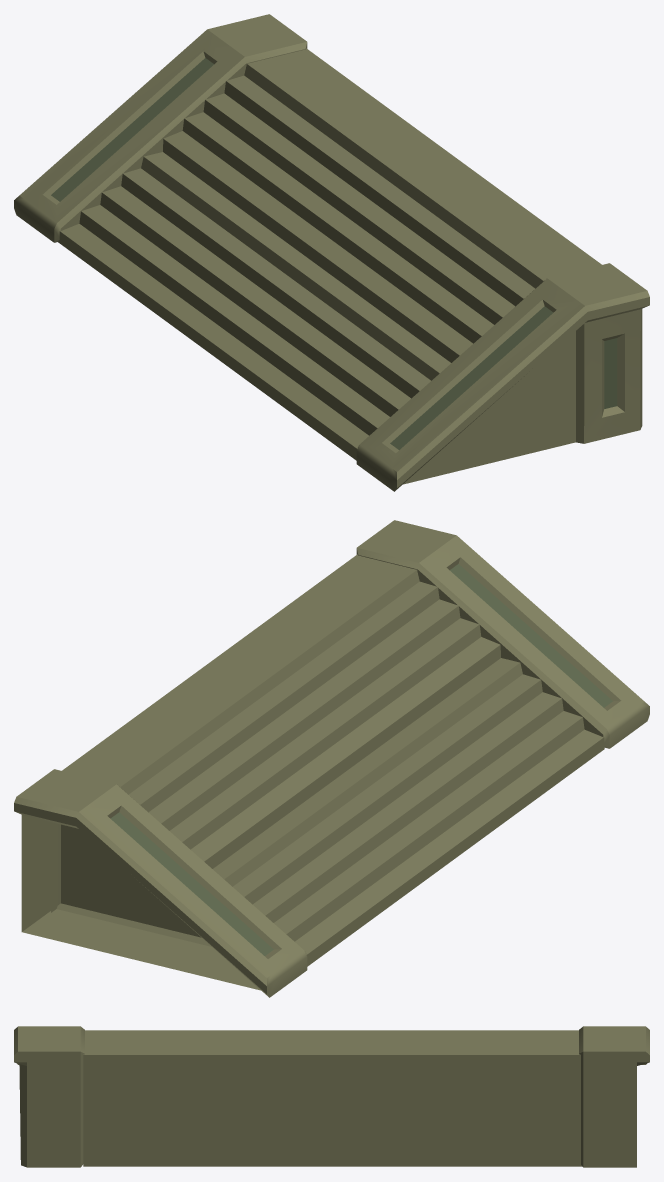
File: stairs04.fbx
The picture shows the model from 3 angles, top to bottom: view 1: azimuth 30°, elevation 25°; view 2: azimuth 150°, elevation 25°; view 3: azimuth 270°, elevation 25°; orthographic projection. The views are drawn at different scales.
Parts seen in each view (by area): view 1: stairs04stairs, stairs04block; view 2: stairs04stairs, stairs04block; view 3: stairs04stairs, stairs04block.
Part boxes in pixels (x1,y1,x2,y2): stairs04stairs: [58, 48, 601, 460]; stairs04block: [14, 14, 649, 491]; stairs04stairs: [51, 554, 604, 966]; stairs04block: [14, 520, 649, 997]; stairs04stairs: [83, 1030, 581, 1166]; stairs04block: [14, 1026, 649, 1167].
Size of the model in its own units: 3.92 by 2.06 by 10.27.
